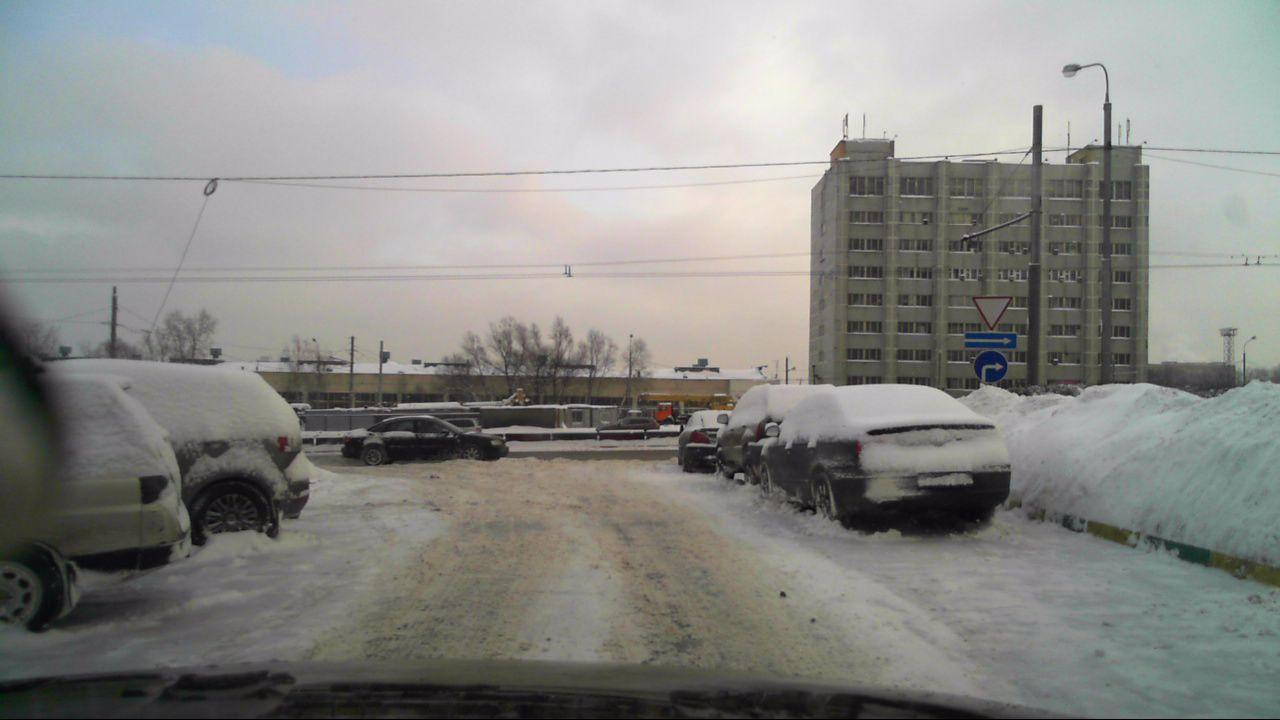2_4: (971, 294, 1014, 331)
4_1_2: (974, 350, 1007, 382)
5_7_1: (964, 332, 1018, 347)
